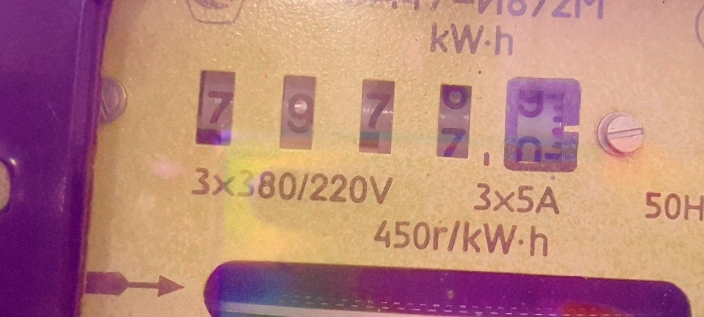0: (512, 129, 546, 169)
7: (203, 86, 234, 129), (362, 88, 393, 131), (437, 123, 468, 160)
9: (282, 89, 317, 135), (515, 82, 547, 119)
screen: (174, 46, 607, 195)
